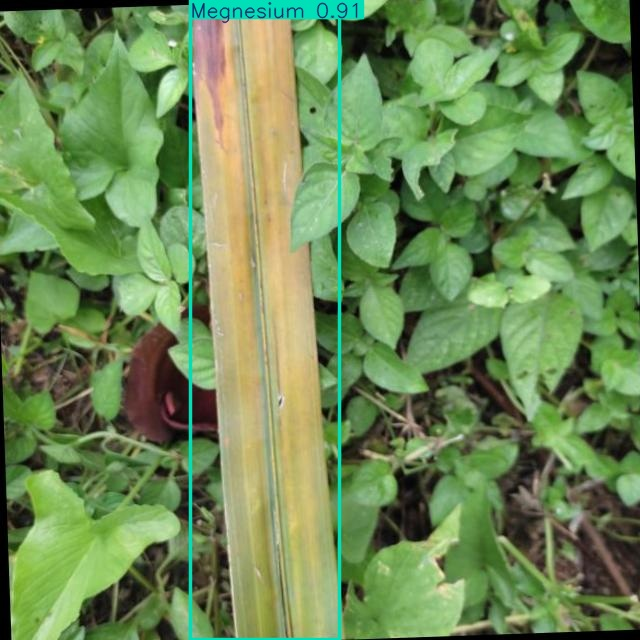Megnesium: (190, 0, 339, 640)
